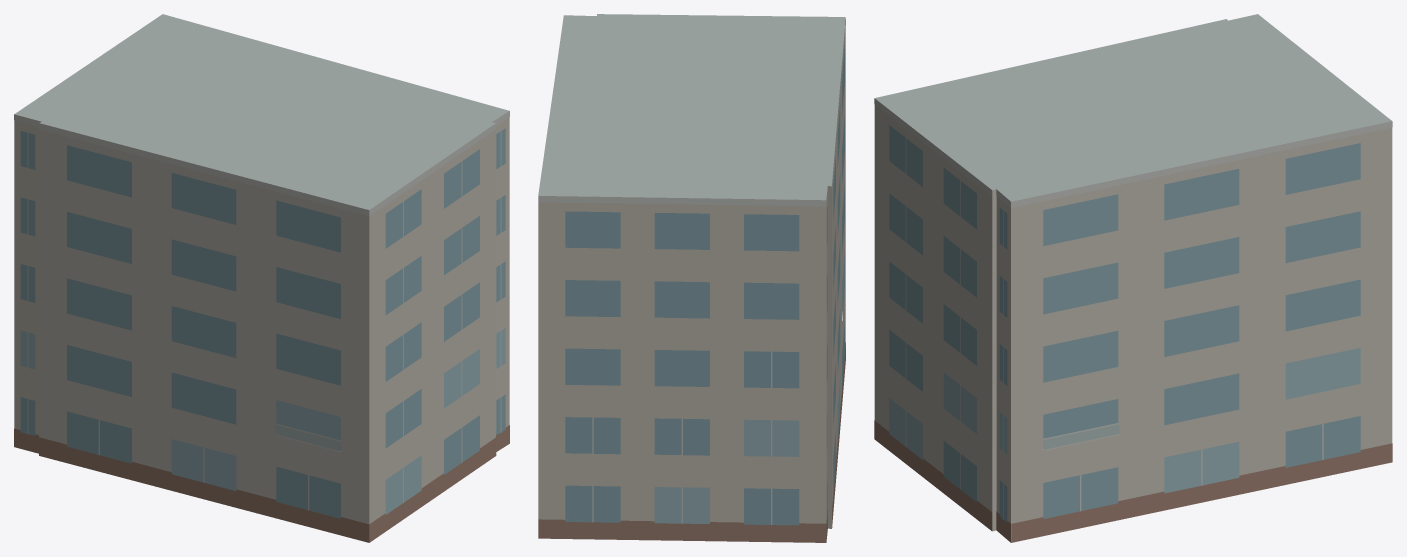
The model's file is survey-upis-32893698.glb.
3 views of the same model, side by side, from view 1: azimuth 30°, elevation 25°; view 2: azimuth 150°, elevation 25°; view 3: azimuth 270°, elevation 25° (orthographic). The views are drawn at different scales.
Visible parts, largest first — view 1: survey-upis-32893698.tmp; view 2: survey-upis-32893698.tmp; view 3: survey-upis-32893698.tmp.
Boxes of the visible parts, x1,y1,x2,y2 form: survey-upis-32893698.tmp: (14,14,509,542); survey-upis-32893698.tmp: (538,14,845,542); survey-upis-32893698.tmp: (874,14,1392,542).
Size of the model in its own units: 15.59 by 13.2 by 18.17.
